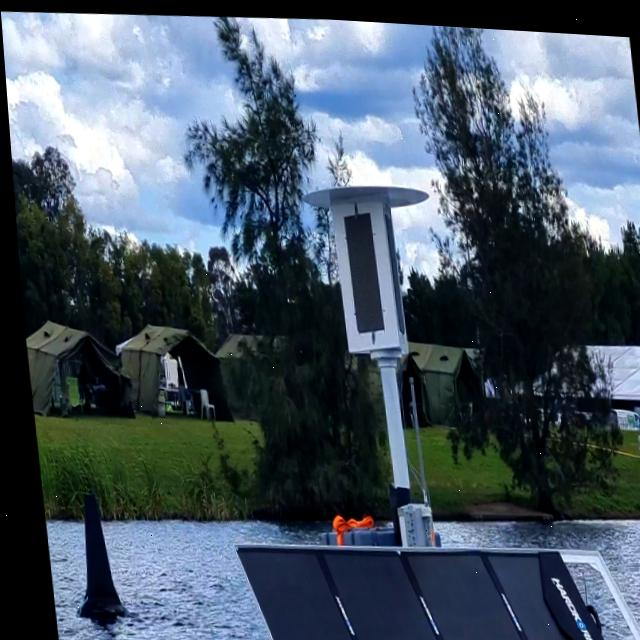led: (333, 196, 393, 338)
